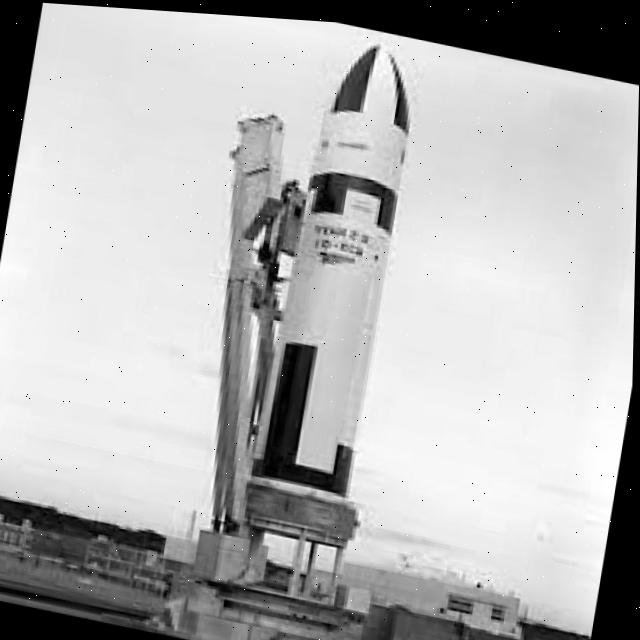missile: (238, 23, 446, 603)
